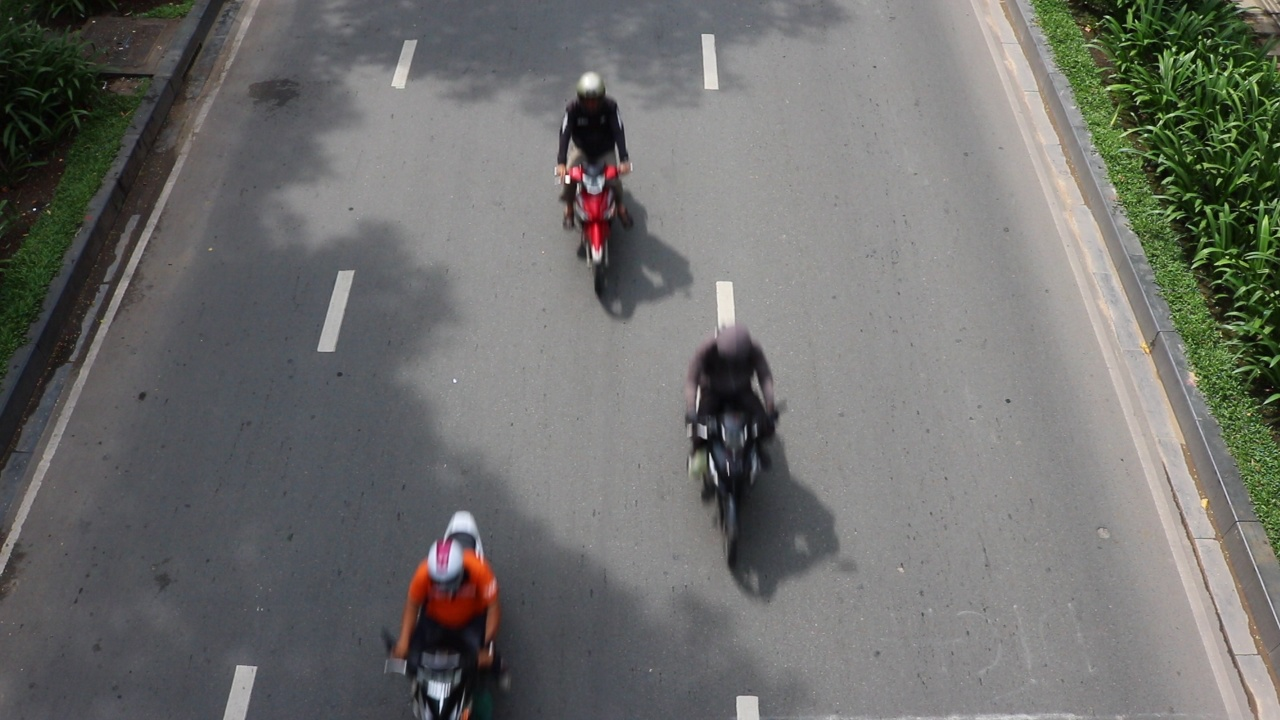motorcycle: (685, 402, 781, 561), (557, 160, 633, 302)
